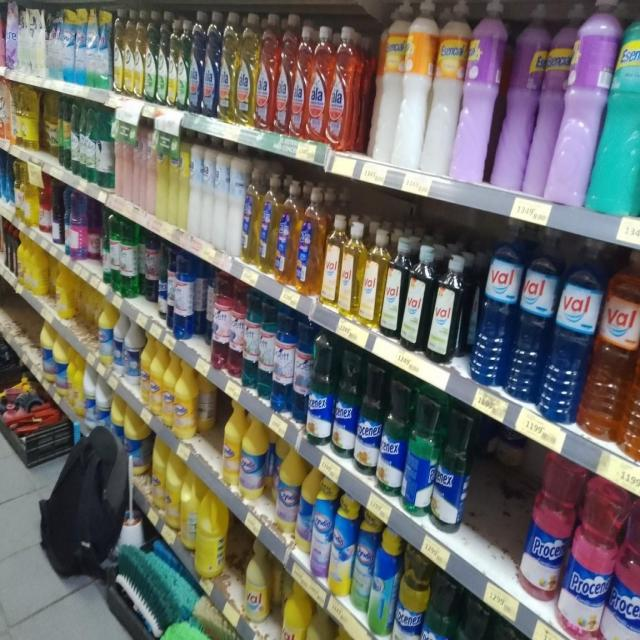ala_conc_amarillo: (237, 11, 256, 126), (220, 10, 237, 123)
ala_conc_azul: (203, 9, 219, 118), (189, 10, 203, 114)
ala_conc_rojo: (328, 25, 359, 152), (308, 24, 328, 144), (256, 13, 276, 131), (276, 15, 292, 135), (292, 20, 308, 140)
ala_crem_amarillo: (156, 126, 168, 221), (178, 131, 188, 231), (168, 129, 178, 227)
ala_crem_blanco: (370, 0, 427, 170), (427, 1, 459, 178), (228, 143, 243, 258), (214, 142, 227, 251), (189, 134, 201, 238), (202, 138, 213, 243)
cif_conc_bot_amarilla: (134, 9, 144, 101), (124, 8, 134, 99), (113, 6, 123, 95), (168, 15, 177, 108)
cif_conc_botella_verde: (145, 10, 156, 104), (178, 15, 188, 111), (157, 13, 167, 106)
zorro: (296, 186, 322, 295), (276, 178, 296, 286)
